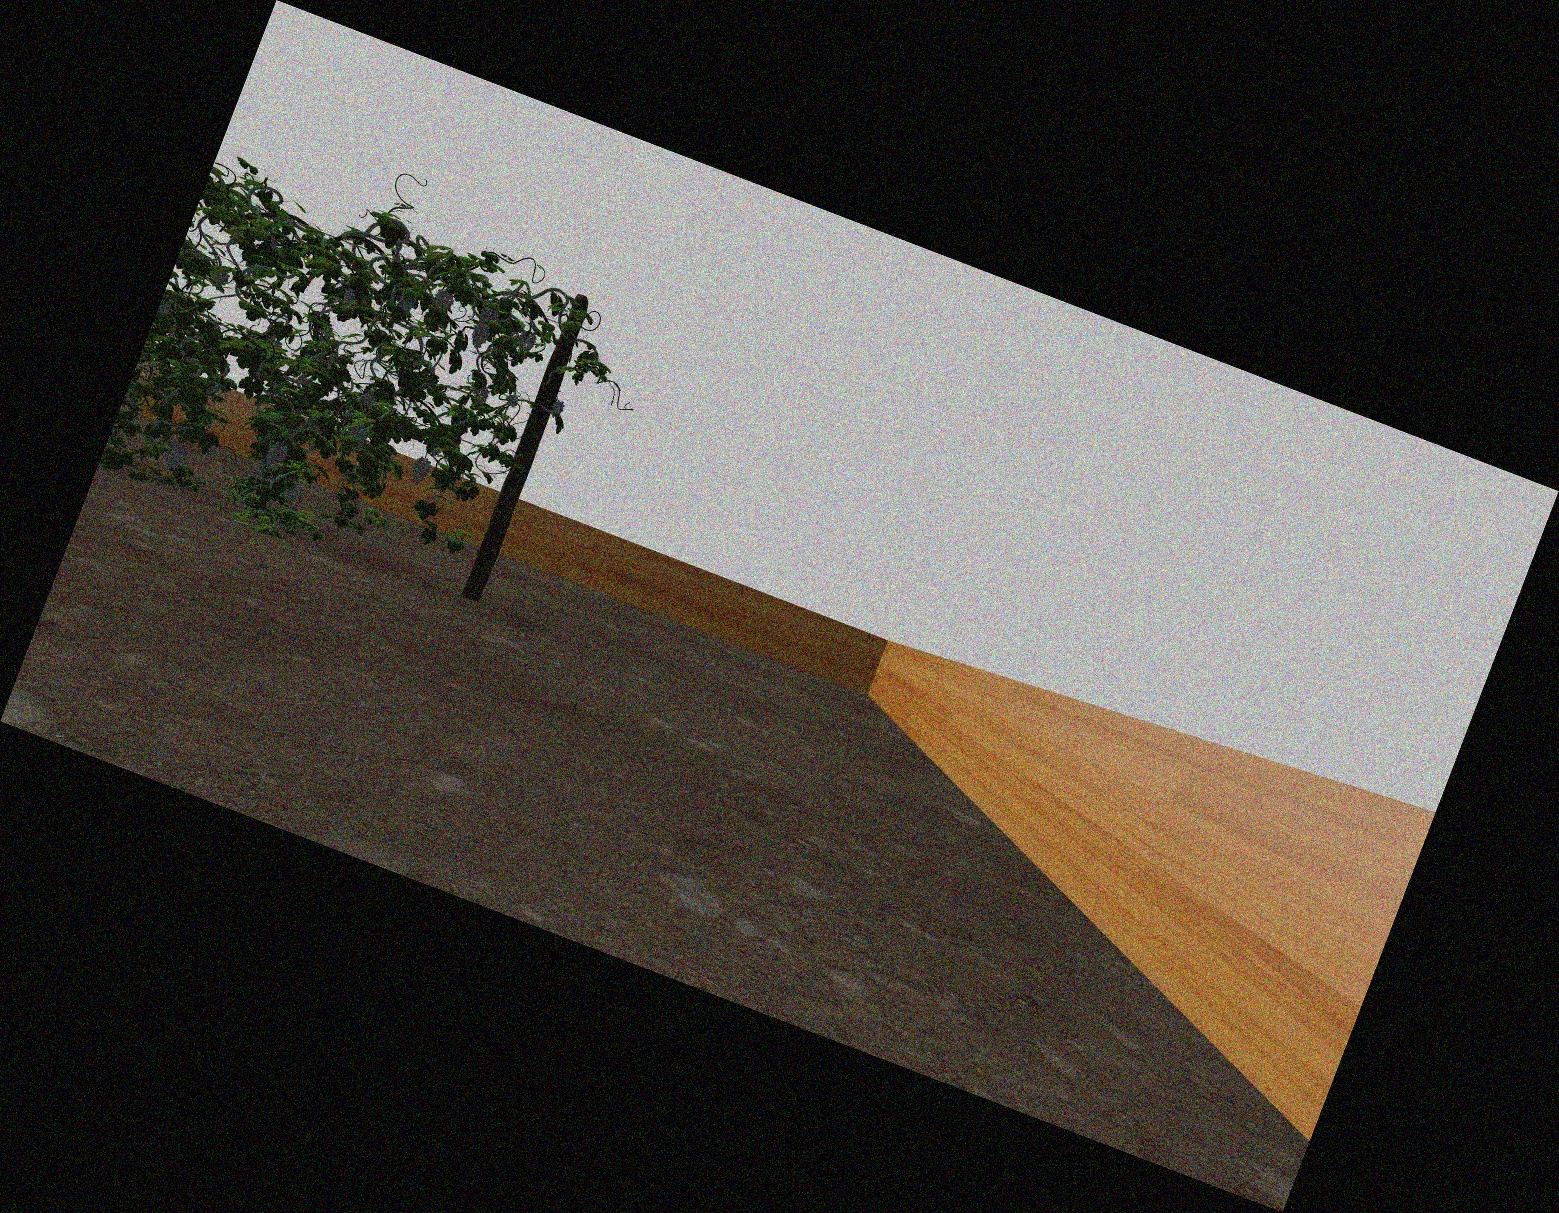grape: (165, 441, 189, 472), (264, 441, 285, 473), (411, 457, 430, 484), (432, 290, 452, 314), (518, 331, 535, 355), (482, 300, 499, 325), (472, 326, 488, 349), (285, 481, 301, 503), (399, 292, 414, 315), (362, 386, 376, 407), (552, 400, 564, 417)
